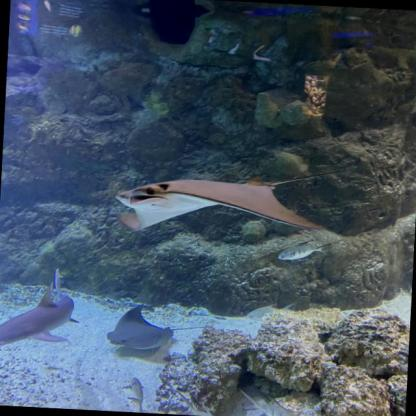fish: (278, 241, 326, 262), (124, 376, 146, 412)
shark: (0, 264, 84, 358)
stingray: (111, 167, 328, 243), (105, 302, 176, 352)
